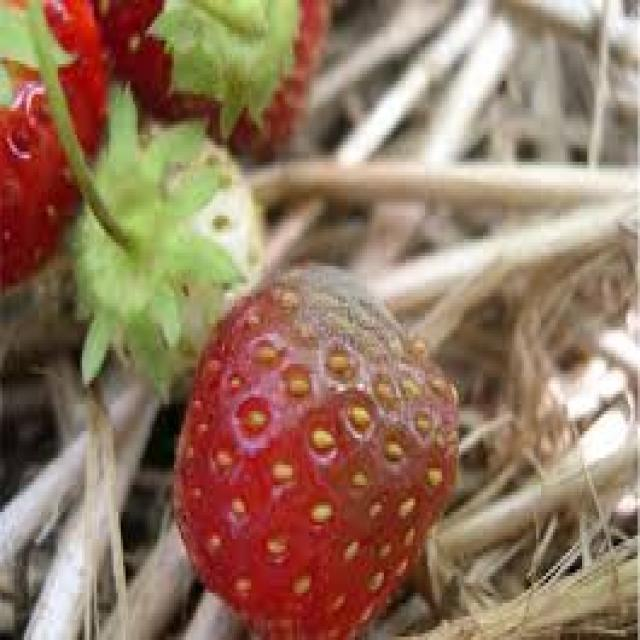Fruta sana: (102, 0, 323, 147), (2, 4, 106, 268)
Moho gris: (172, 250, 466, 640)
